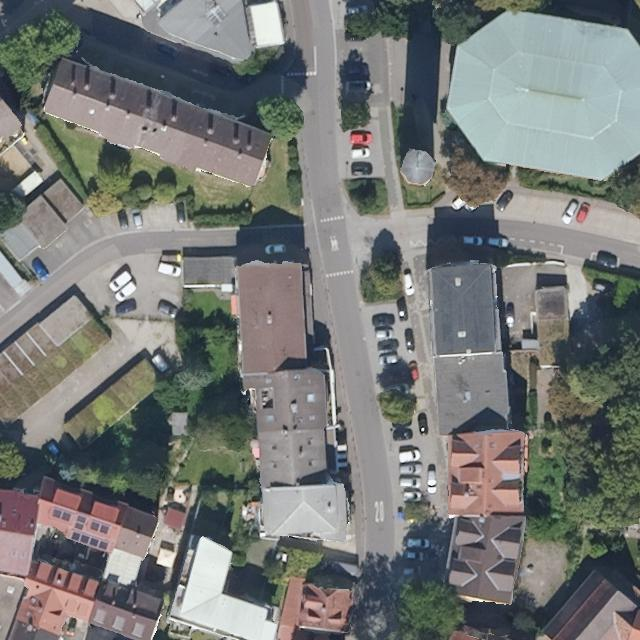PV: (68, 528, 112, 552), (86, 518, 114, 536), (49, 505, 74, 524), (72, 514, 89, 531)
